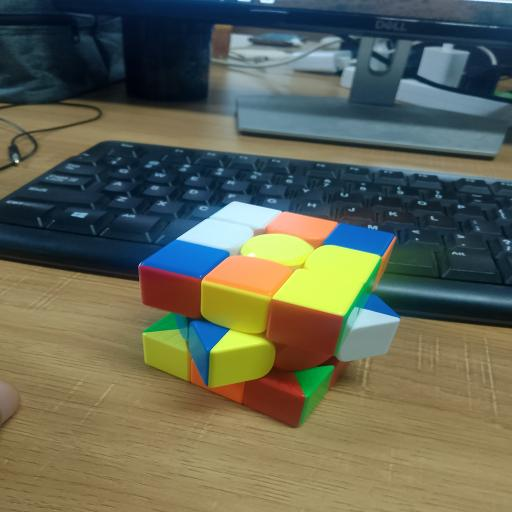cubic: (127, 196, 425, 439)
